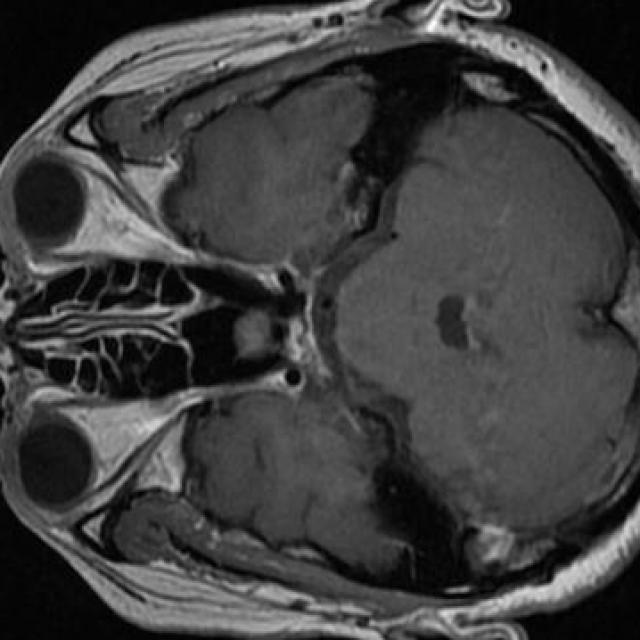pituitary: (235, 314, 278, 355)
